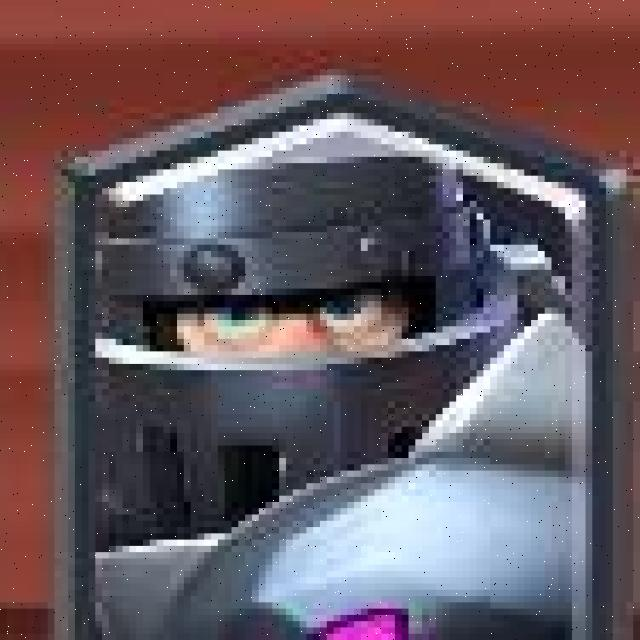Mega_Knight: (76, 82, 625, 640)
